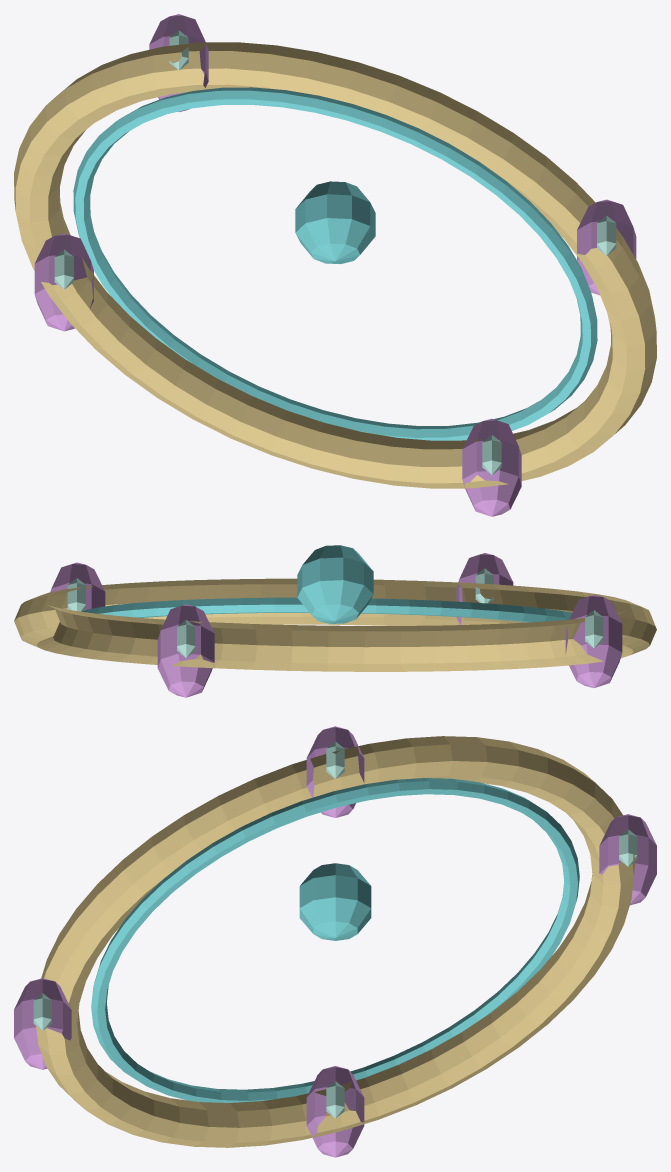
The model's file is prism_orbit.glb.
3 views of the same model, one above another, from view 1: azimuth 30°, elevation 25°; view 2: azimuth 150°, elevation 25°; view 3: azimuth 270°, elevation 25° (orthographic). The views are drawn at different scales.
Parts seen in each view (by area): view 1: head; view 2: head; view 3: head.
Boxes of the visible parts, x1,y1,x2,y2 form: head: [14, 14, 656, 516]; head: [14, 545, 656, 697]; head: [14, 726, 656, 1157].
Size of the model in its own units: 11.69 by 5.13 by 11.69.
